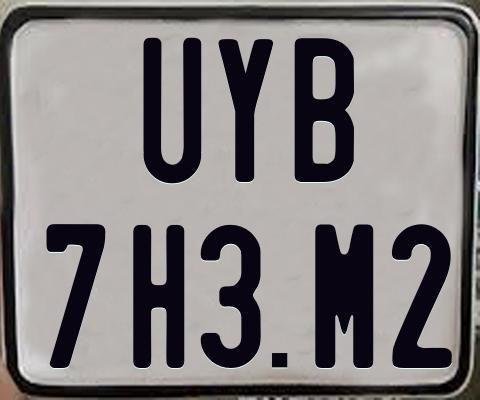2: (389, 223, 453, 367)
3: (199, 225, 264, 373)
7: (44, 223, 105, 367)
B: (294, 35, 358, 180)
H: (132, 223, 185, 372)
M: (315, 223, 376, 370)
U: (143, 36, 205, 187)
Y: (216, 37, 271, 183)
